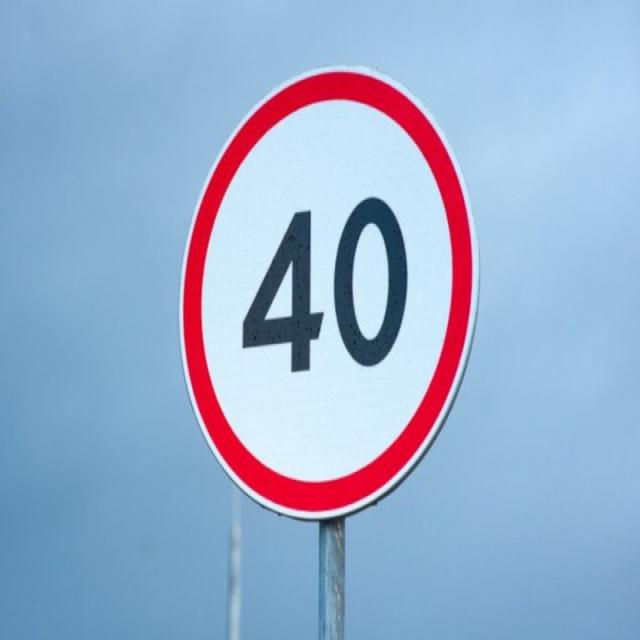speed limit 40: (176, 61, 483, 523)
